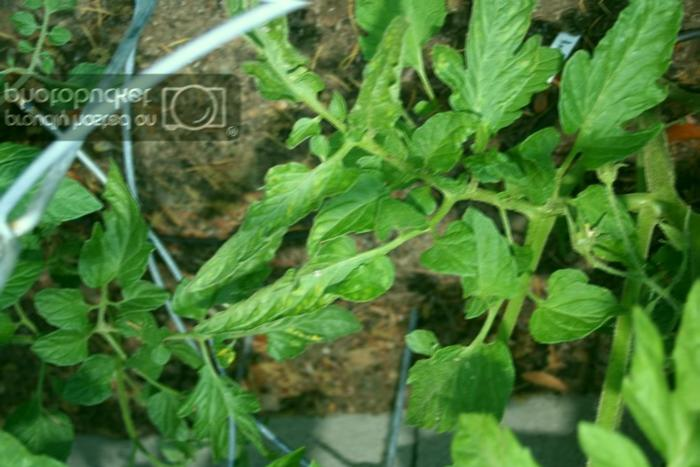Tomato leaf mosaic virus: (541, 1, 682, 166), (423, 0, 555, 169), (191, 157, 332, 291), (401, 322, 521, 436), (76, 155, 163, 295), (528, 262, 625, 340), (394, 108, 480, 180), (424, 220, 488, 279)
